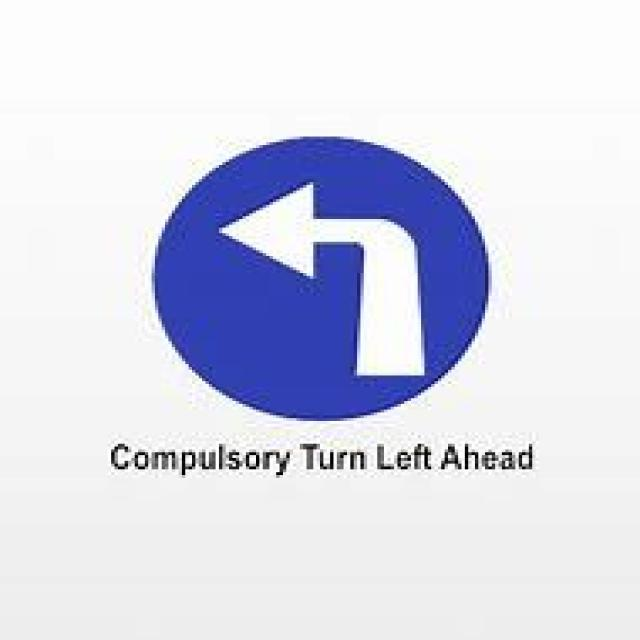COMPULSARY_TURN_LEFT_AHEAD: (146, 126, 499, 425)
